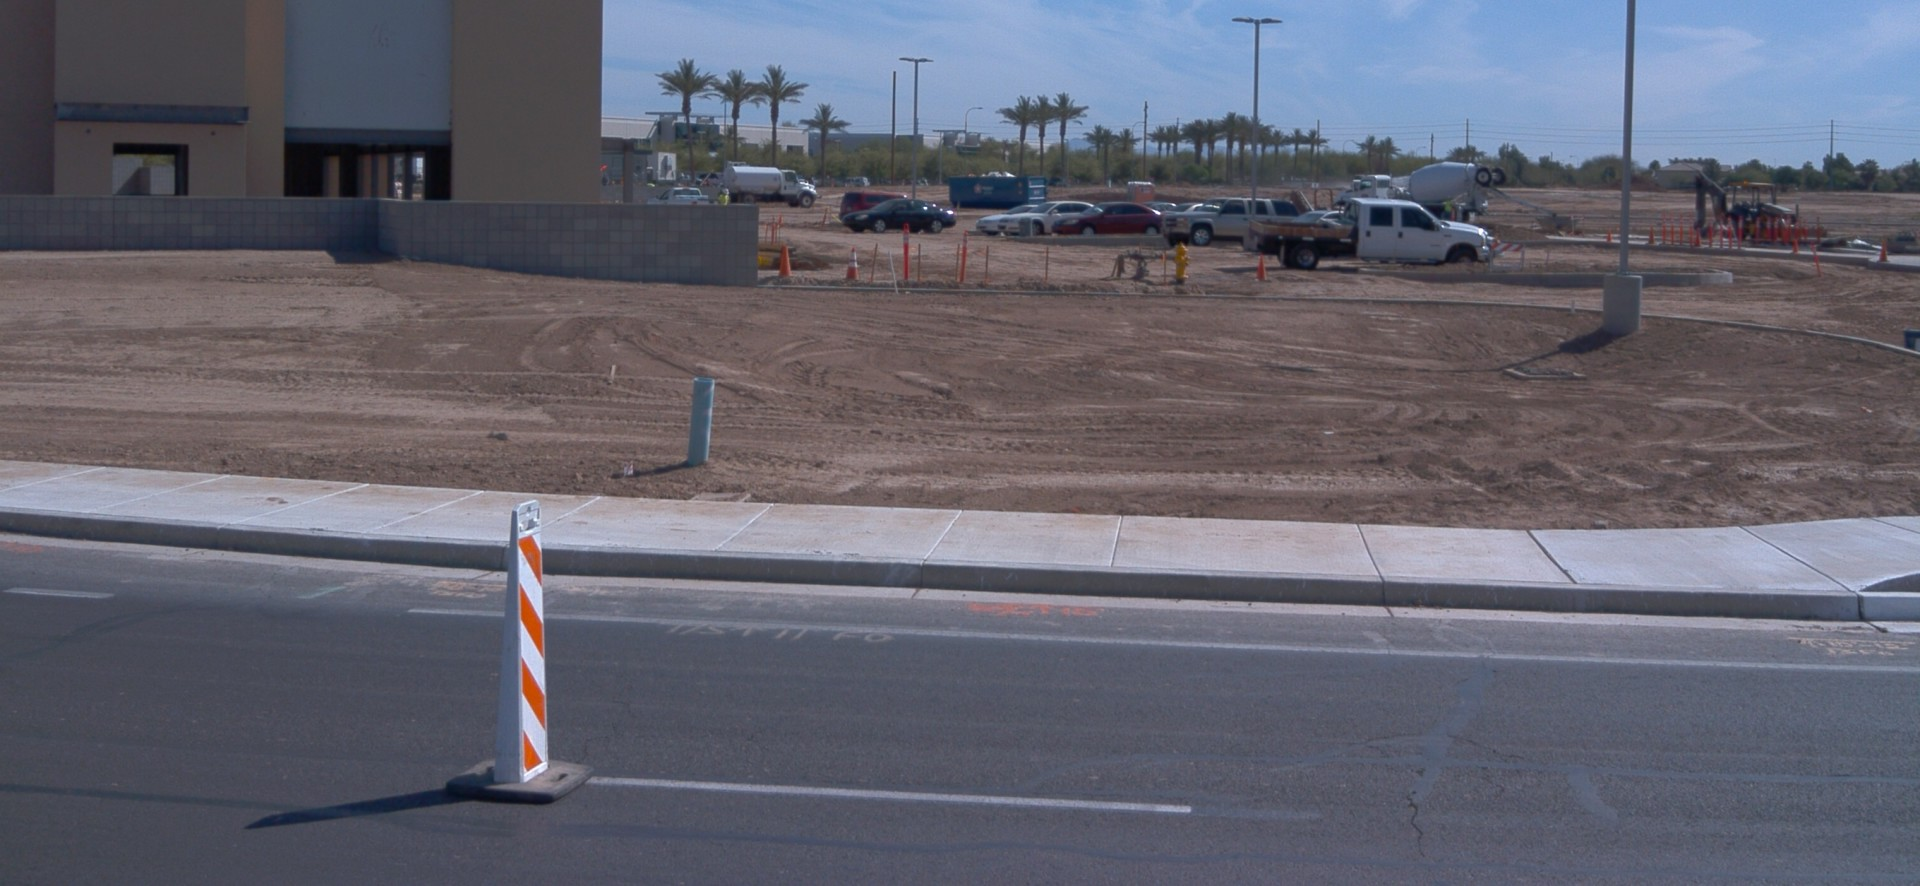TYPE_PEDESTRIAN: (1443, 195, 1457, 224), (716, 186, 730, 205)
TYPE_VEHICLE: (1243, 199, 1491, 272), (1340, 160, 1559, 227), (1693, 166, 1827, 248), (1165, 197, 1304, 249), (841, 195, 958, 235), (1049, 200, 1165, 240), (722, 165, 817, 212), (996, 198, 1095, 238), (648, 181, 722, 213), (838, 190, 909, 222), (976, 204, 1037, 237), (1291, 183, 1335, 211), (1289, 211, 1347, 225), (1161, 202, 1217, 215), (1482, 237, 1504, 260), (1153, 197, 1185, 212), (1351, 174, 1365, 187)
